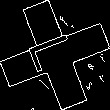L_E: (26, 32, 84, 78)
